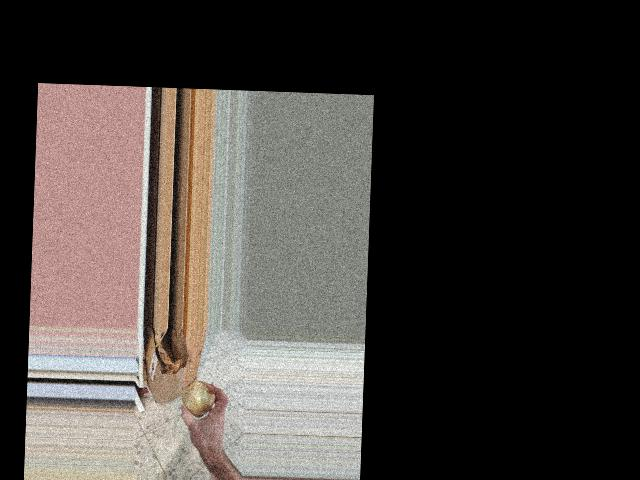onion: (181, 373, 218, 419)
